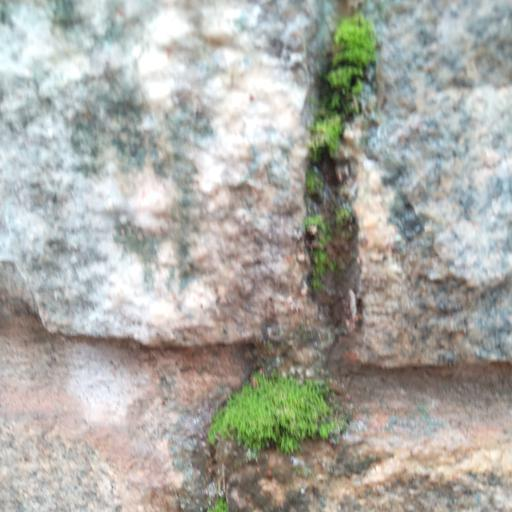algae: (205, 10, 428, 464)
